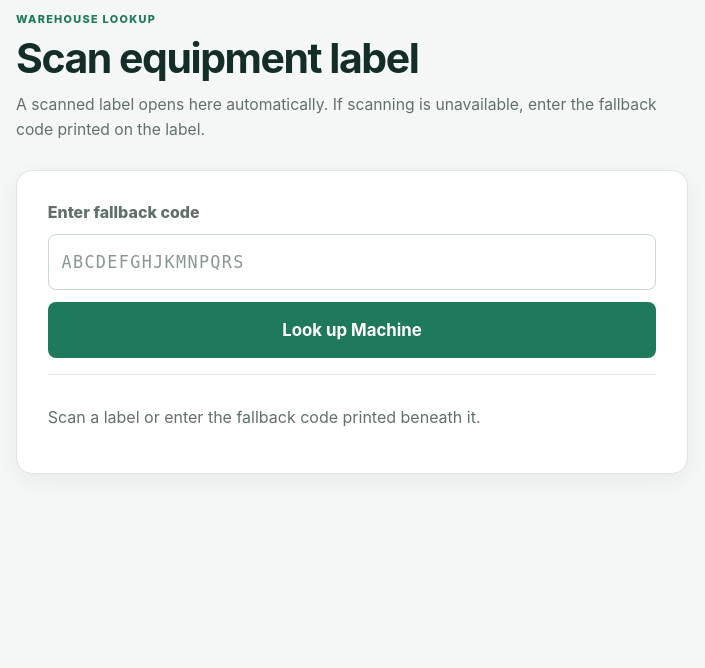
Test: QR interaction UI › normalizes manual entry and renders lookup failures
Later steps or results of the test are not shown.
Type "abcd-efgh jkmnpqrs" into the field labelled "Enter fallback code". click: (352,262)
box: [48,234,656,290]
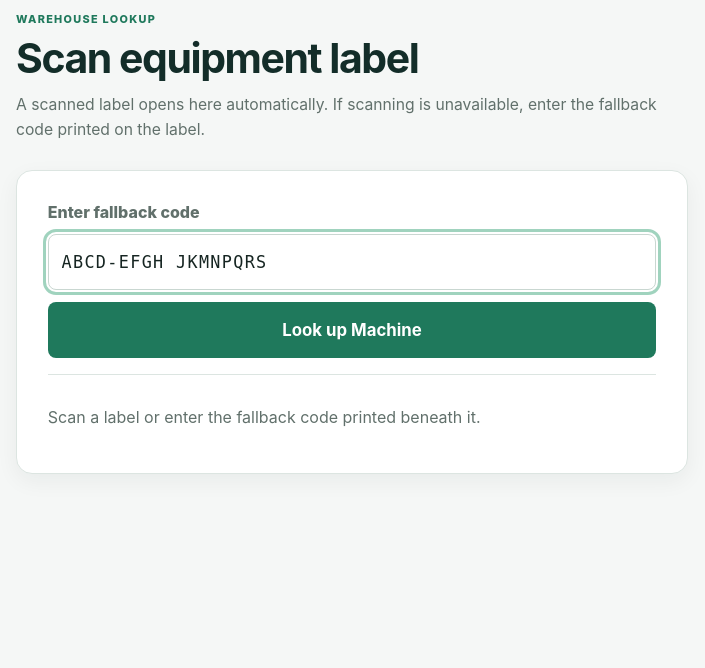
Click the button "Look up Machine". click: (352,330)
box: [48,302,656,358]
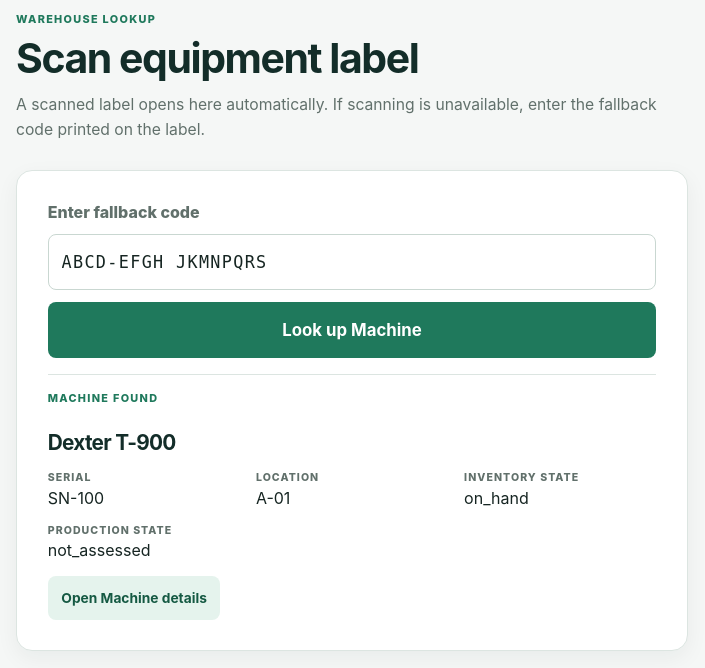
Now the heading "Dexter T-900" is shown, box [48,430,176,455]
